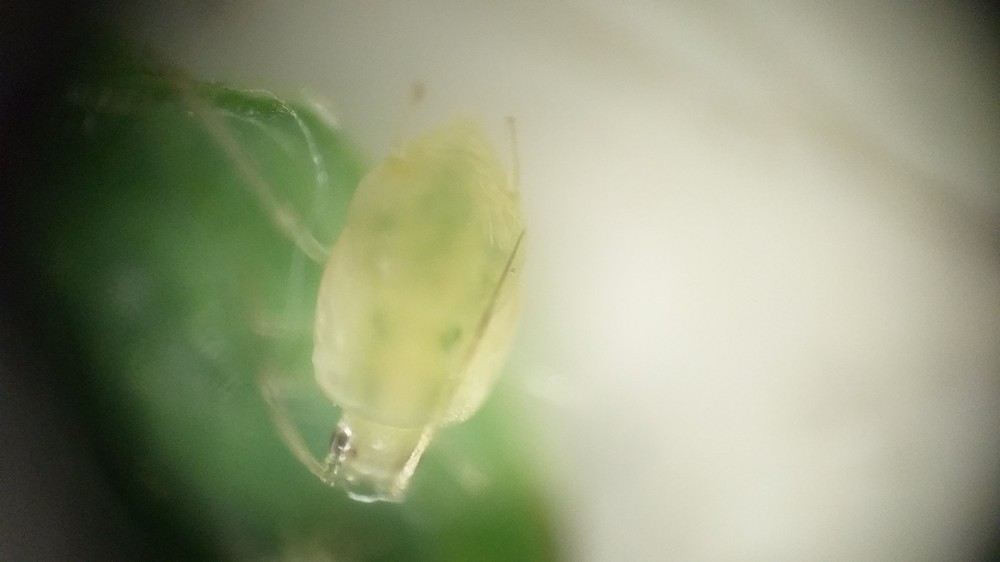Pulgon: (235, 74, 564, 532)
